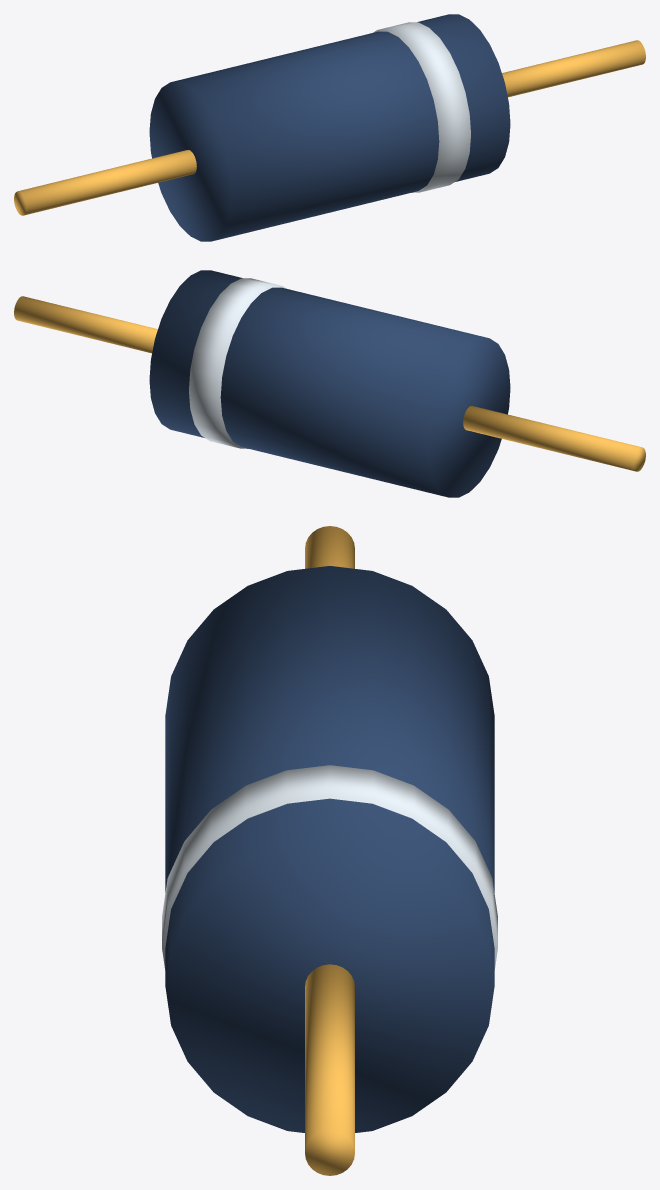
The model's file is diode-quality.glb.
3 views of the same model, one above another, from view 1: azimuth 30°, elevation 25°; view 2: azimuth 150°, elevation 25°; view 3: azimuth 270°, elevation 25° (orthographic). The views are drawn at different scales.
Visible parts, largest first — view 1: Axial body; view 2: Axial body; view 3: Axial body.
Boxes of the visible parts, box(x1,y1,x2,y2) form: Axial body: box(14, 14, 645, 241); Axial body: box(14, 270, 645, 497); Axial body: box(162, 526, 497, 1175).
Size of the model in its own units: 2 by 0.47 by 0.47.
